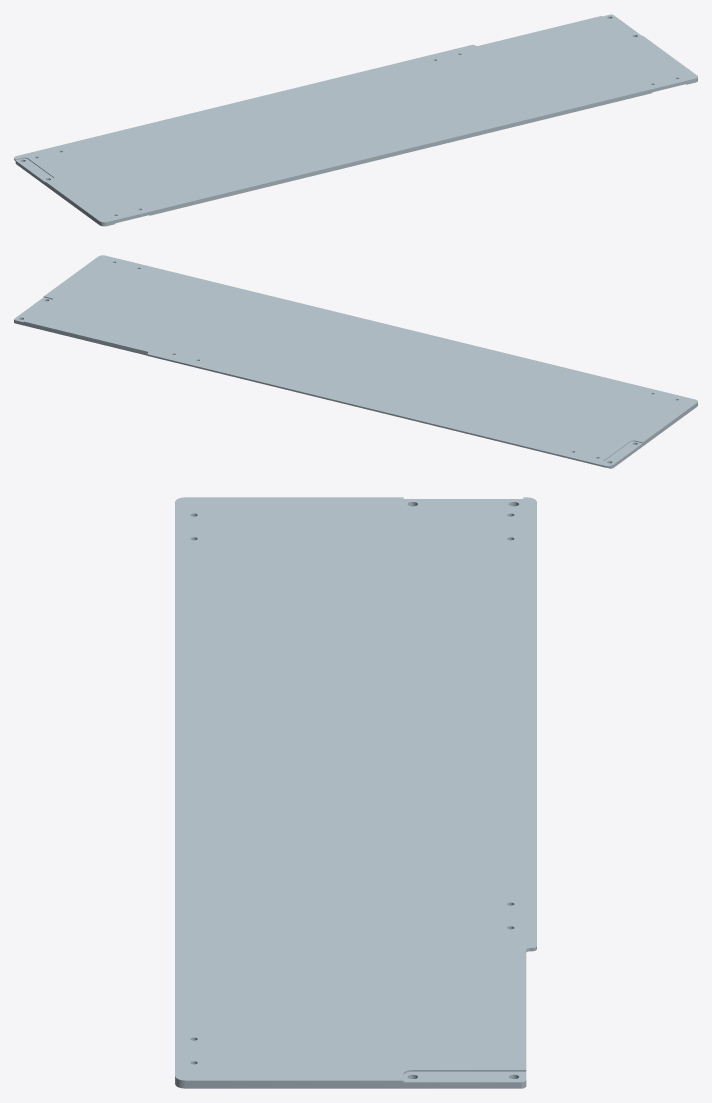
File: door_upper.obj
The picture shows the model from 3 angles, top to bottom: view 1: azimuth 30°, elevation 25°; view 2: azimuth 150°, elevation 25°; view 3: azimuth 270°, elevation 25°; orthographic projection. The views are drawn at different scales.
Parts seen in each view (by area): view 1: door_upper_0; view 2: door_upper_0; view 3: door_upper_0.
Part boxes in pixels (x1,y1,x2,y2): door_upper_0: (14, 14, 697, 226); door_upper_0: (14, 255, 697, 468); door_upper_0: (175, 497, 536, 1088).
Bounding box in the file's own units: 0.778 × 0.00505 × 0.2039.
